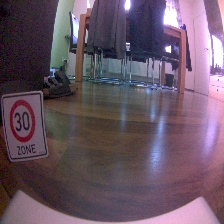dreisiger_zone: (1, 91, 49, 162)
